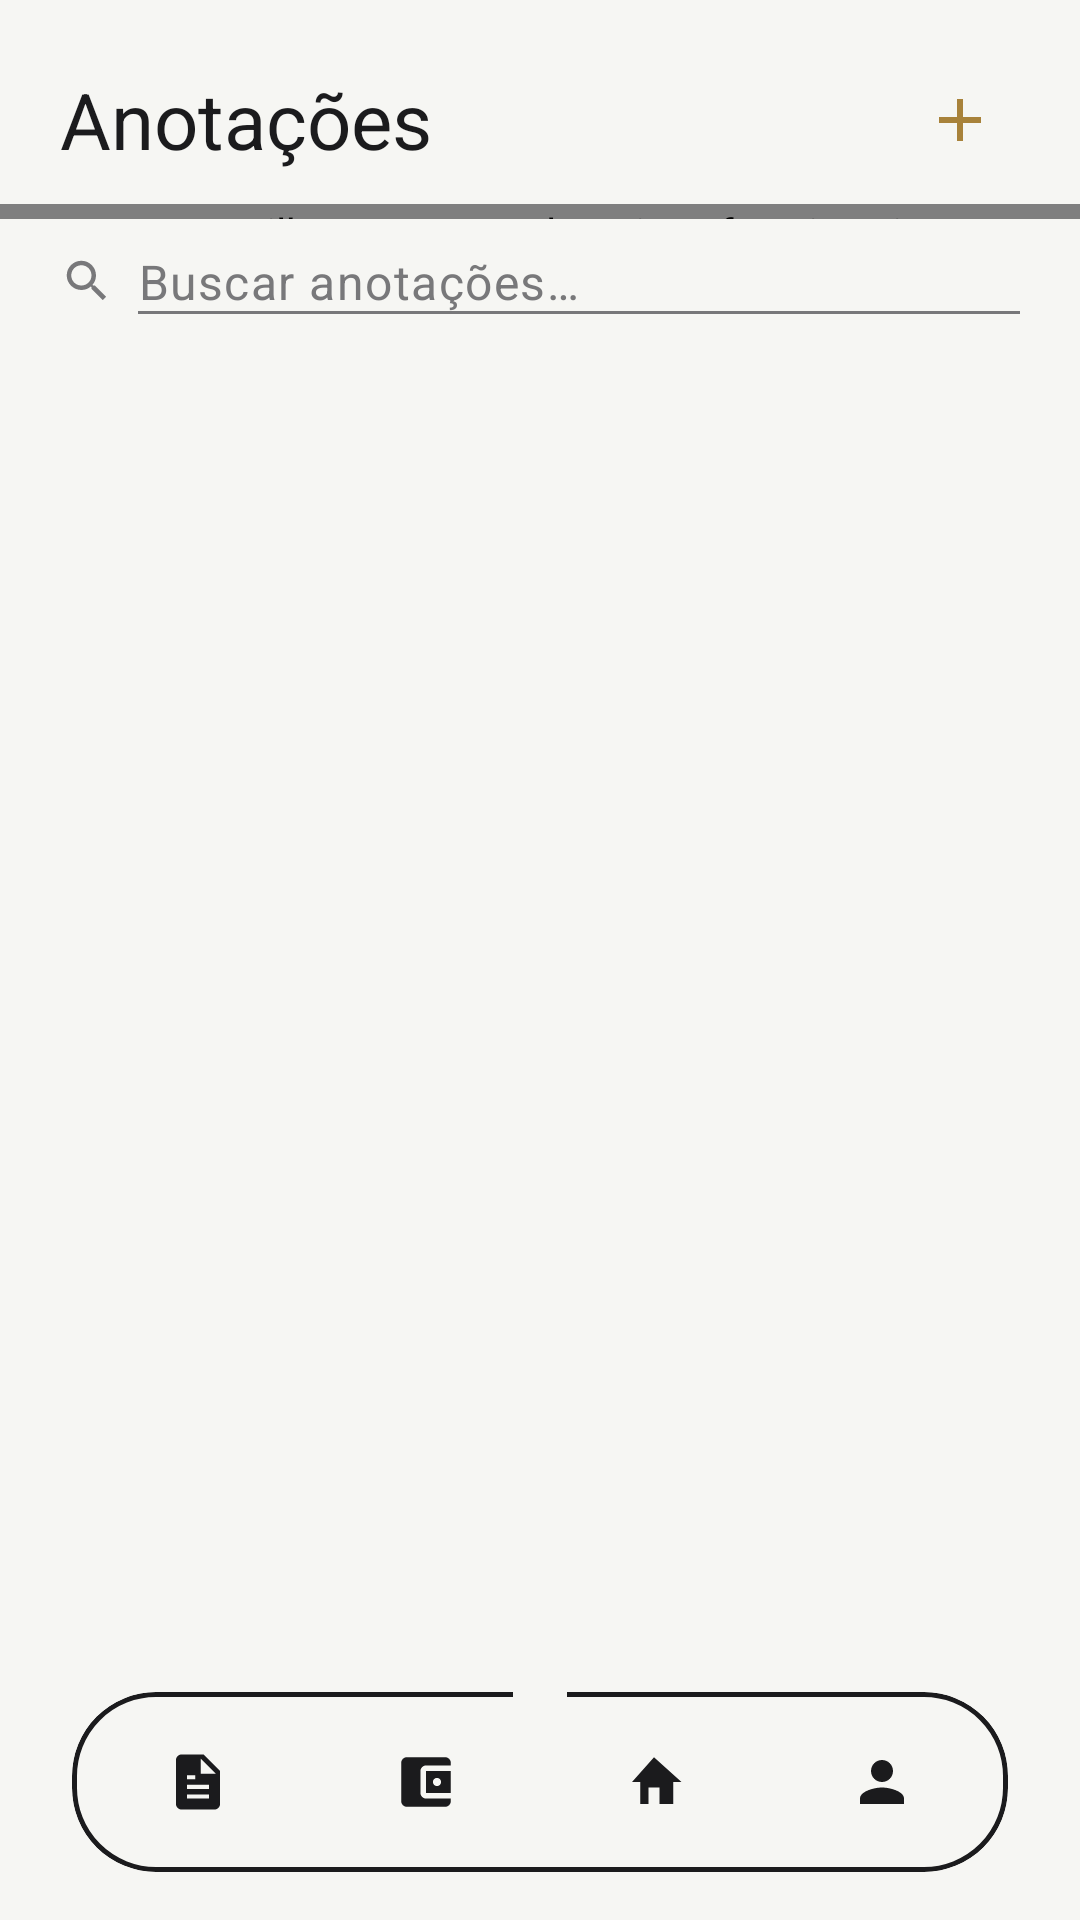

Point at icon controls on the screen. Image size 1080w x 1920h, points as (x,y).
Anotações: (198,1782)
Escrever uma anotação (bloco de notas): (960,120)
Financeiro: (426,1782)
Perfil: (882,1782)
